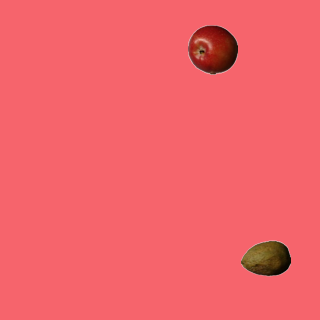Apple Braeburn: (187, 24, 237, 74)
Papaya: (240, 233, 290, 283)
